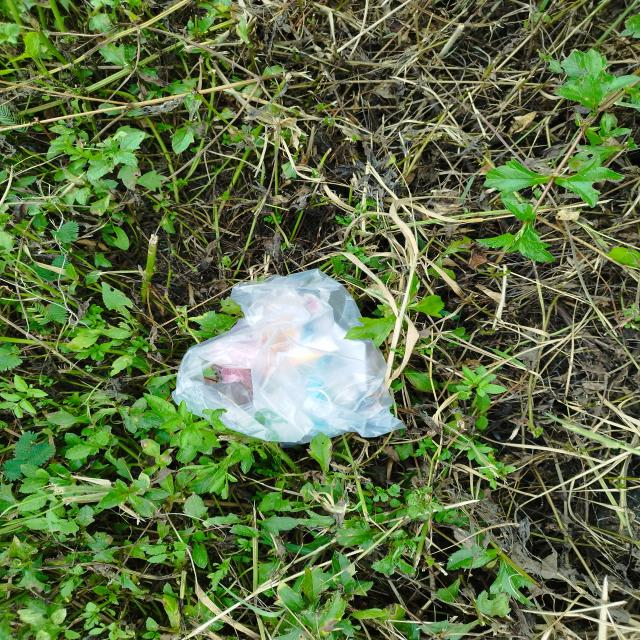trash bag: (174, 268, 408, 440)
